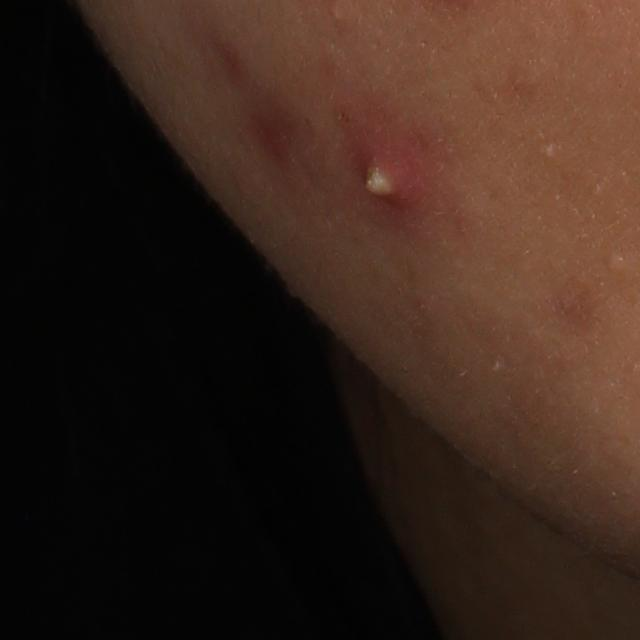comedo: (599, 243, 630, 277), (541, 139, 556, 160)
pustule: (339, 107, 438, 228)
